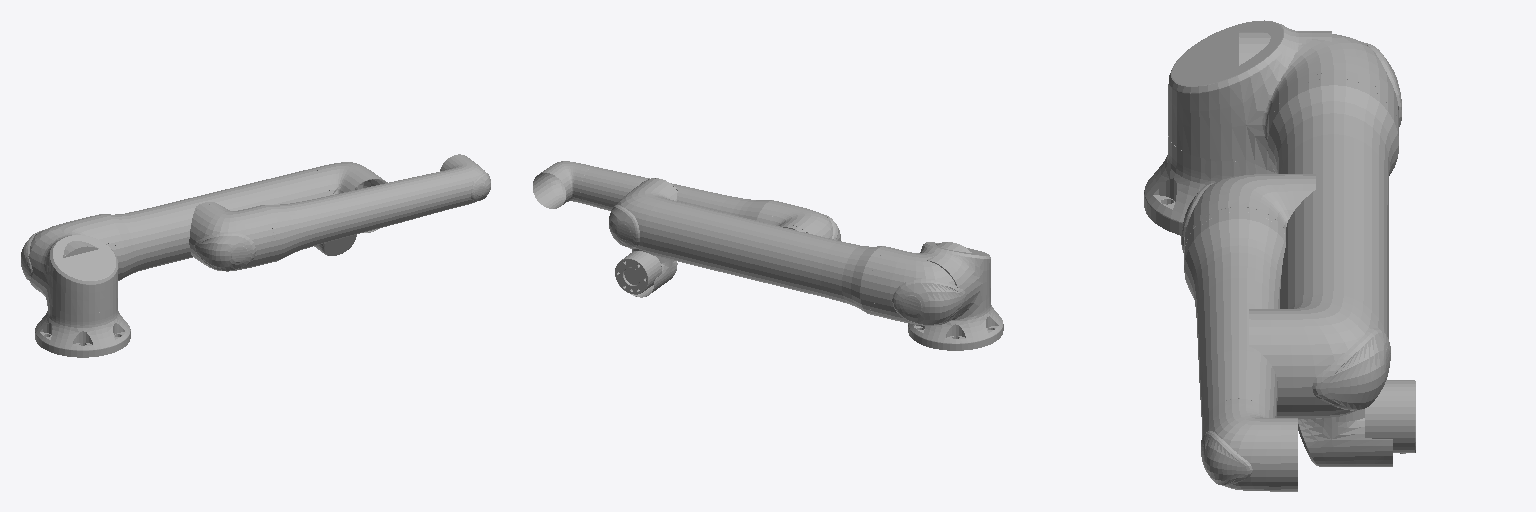
robot.urdf — ur5e_robot:
<?xml version="1.0" encoding="utf-8" ?>
<!-- =================================================================================== -->
<!-- |    This document was autogenerated by xacro from [local-path]/catkin_workspace/src/universal_robot/ur_description/urdf/ur5e.xacro | -->
<!-- |    EDITING THIS FILE BY HAND IS NOT RECOMMENDED                                 | -->
<!-- =================================================================================== -->
<robot name="ur5e_robot">
    <!--
    Base UR robot series xacro macro.

    NOTE: this is NOT a URDF. It cannot directly be loaded by consumers
    expecting a flattened '.urdf' file. See the top-level '.xacro' for that
    (but note: that .xacro must still be processed by the xacro command).

    For use in '.launch' files: use one of the 'load_urX.launch' convenience
    launch files.

    This file models the base kinematic chain of a UR robot, which then gets
    parameterised by various configuration files to convert it into a UR3(e),
    UR5(e), UR10(e) or UR16e.

    NOTE: the default kinematic parameters (ie: link lengths, frame locations,
    offets, etc) do not correspond to any particular robot. They are defaults
    only. There WILL be non-zero offsets between the Forward Kinematics results
    in TF (ie: robot_state_publisher) and the values reported by the Teach
    Pendant.

    For accurate (and robot-specific) transforms, the 'kinematics_parameters_file'
    parameter MUST point to a .yaml file containing the appropriate values for
    the targetted robot.

    If using the UniversalRobots/Universal_Robots_ROS_Driver, follow the steps
    described in the readme of that repository to extract the kinematic
    calibration from the controller and generate the required .yaml file.

    Main author of the migration to yaml configs: [author].

    Contributors to previous versions (in no particular order):

     - [author]
     - [author]
     - [author]
     - [author]
     - [author]
     - [author]
     - [author]
     - [author]
     - [author]
     - [author]
     - [author]
     - [author]
     - [author]
     - [author]
     - [author]
     - [author]
     - [author]
    
    Refactor by WHI for connecting to other link
     - [author]
  -->
    <!--
    NOTE: the macro defined in this file is NOT part of the public API of this
          package. Users CANNOT rely on this file being available, or stored in
          this location. Nor can they rely on the existence of the macro.
  -->
    <transmission name="shoulder_pan_trans">
        <type>transmission_interface/SimpleTransmission</type>
        <joint name="shoulder_pan_joint">
            <hardwareInterface>hardware_interface/PositionJointInterface</hardwareInterface>
        </joint>
        <actuator name="shoulder_pan_motor">
            <mechanicalReduction>1</mechanicalReduction>
            <hardwareInterface>hardware_interface/EffortJointInterface</hardwareInterface>
        </actuator>
    </transmission>
    <transmission name="shoulder_lift_trans">
        <type>transmission_interface/SimpleTransmission</type>
        <joint name="shoulder_lift_joint">
            <hardwareInterface>hardware_interface/PositionJointInterface</hardwareInterface>
        </joint>
        <actuator name="shoulder_lift_motor">
            <mechanicalReduction>1</mechanicalReduction>
            <hardwareInterface>hardware_interface/EffortJointInterface</hardwareInterface>
        </actuator>
    </transmission>
    <transmission name="elbow_trans">
        <type>transmission_interface/SimpleTransmission</type>
        <joint name="elbow_joint">
            <hardwareInterface>hardware_interface/PositionJointInterface</hardwareInterface>
        </joint>
        <actuator name="elbow_motor">
            <mechanicalReduction>1</mechanicalReduction>
            <hardwareInterface>hardware_interface/EffortJointInterface</hardwareInterface>
        </actuator>
    </transmission>
    <transmission name="wrist_1_trans">
        <type>transmission_interface/SimpleTransmission</type>
        <joint name="wrist_1_joint">
            <hardwareInterface>hardware_interface/PositionJointInterface</hardwareInterface>
        </joint>
        <actuator name="wrist_1_motor">
            <mechanicalReduction>1</mechanicalReduction>
            <hardwareInterface>hardware_interface/EffortJointInterface</hardwareInterface>
        </actuator>
    </transmission>
    <transmission name="wrist_2_trans">
        <type>transmission_interface/SimpleTransmission</type>
        <joint name="wrist_2_joint">
            <hardwareInterface>hardware_interface/PositionJointInterface</hardwareInterface>
        </joint>
        <actuator name="wrist_2_motor">
            <mechanicalReduction>1</mechanicalReduction>
            <hardwareInterface>hardware_interface/EffortJointInterface</hardwareInterface>
        </actuator>
    </transmission>
    <transmission name="wrist_3_trans">
        <type>transmission_interface/SimpleTransmission</type>
        <joint name="wrist_3_joint">
            <hardwareInterface>hardware_interface/PositionJointInterface</hardwareInterface>
        </joint>
        <actuator name="wrist_3_motor">
            <mechanicalReduction>1</mechanicalReduction>
            <hardwareInterface>hardware_interface/EffortJointInterface</hardwareInterface>
        </actuator>
    </transmission>
    <!-- links: main serial chain -->
    <link name="base_link" />
    <link name="base_link_inertia">
        <visual>
            <origin rpy="0 0 3.14159265359" xyz="0 0 0" />
            <geometry>
                <mesh filename="package://ur_description/meshes/ur5e/visual/base.dae" />
            </geometry>
            <material name="LightGrey">
                <color rgba="0.7 0.7 0.7 1.0" />
            </material>
        </visual>
        <collision>
            <origin rpy="0 0 3.14159265359" xyz="0 0 0" />
            <geometry>
                <mesh filename="package://ur_description/meshes/ur5e/collision/base.stl" />
            </geometry>
        </collision>
        <inertial>
            <mass value="4.0" />
            <origin rpy="0 0 0" xyz="0 0 0" />
            <inertia ixx="0.00443333156" ixy="0.0" ixz="0.0" iyy="0.00443333156" iyz="0.0" izz="0.0072" />
        </inertial>
    </link>
    <link name="shoulder_link">
        <visual>
            <origin rpy="0 0 3.14159265359" xyz="0 0 0" />
            <geometry>
                <mesh filename="package://ur_description/meshes/ur5e/visual/shoulder.dae" />
            </geometry>
            <material name="LightGrey">
                <color rgba="0.7 0.7 0.7 1.0" />
            </material>
        </visual>
        <collision>
            <origin rpy="0 0 3.14159265359" xyz="0 0 0" />
            <geometry>
                <mesh filename="package://ur_description/meshes/ur5e/collision/shoulder.stl" />
            </geometry>
        </collision>
        <inertial>
            <mass value="3.7" />
            <origin rpy="0 0 0" xyz="0 0 0" />
            <inertia ixx="0.010267495893" ixy="0.0" ixz="0.0" iyy="0.010267495893" iyz="0.0" izz="0.00666" />
        </inertial>
    </link>
    <link name="upper_arm_link">
        <visual>
            <origin rpy="1.57079632679 0 -1.57079632679" xyz="0 0 0.138" />
            <geometry>
                <mesh filename="package://ur_description/meshes/ur5e/visual/upperarm.dae" />
            </geometry>
            <material name="LightGrey">
                <color rgba="0.7 0.7 0.7 1.0" />
            </material>
        </visual>
        <collision>
            <origin rpy="1.57079632679 0 -1.57079632679" xyz="0 0 0.138" />
            <geometry>
                <mesh filename="package://ur_description/meshes/ur5e/collision/upperarm.stl" />
            </geometry>
        </collision>
        <inertial>
            <mass value="8.393" />
            <origin rpy="0 1.57079632679 0" xyz="-0.2125 0.0 0.138" />
            <inertia ixx="0.133885781862" ixy="0.0" ixz="0.0" iyy="0.133885781862" iyz="0.0" izz="0.0151074" />
        </inertial>
    </link>
    <link name="forearm_link">
        <visual>
            <origin rpy="1.57079632679 0 -1.57079632679" xyz="0 0 0.007" />
            <geometry>
                <mesh filename="package://ur_description/meshes/ur5e/visual/forearm.dae" />
            </geometry>
            <material name="LightGrey">
                <color rgba="0.7 0.7 0.7 1.0" />
            </material>
        </visual>
        <collision>
            <origin rpy="1.57079632679 0 -1.57079632679" xyz="0 0 0.007" />
            <geometry>
                <mesh filename="package://ur_description/meshes/ur5e/collision/forearm.stl" />
            </geometry>
        </collision>
        <inertial>
            <mass value="2.275" />
            <origin rpy="0 1.57079632679 0" xyz="-0.1961 0.0 0.007" />
            <inertia ixx="0.0312093550996" ixy="0.0" ixz="0.0" iyy="0.0312093550996" iyz="0.0" izz="0.004095" />
        </inertial>
    </link>
    <link name="wrist_1_link">
        <visual>
            <!-- TODO: Move this to a parameter -->
            <origin rpy="1.57079632679 0 0" xyz="0 0 -0.127" />
            <geometry>
                <mesh filename="package://ur_description/meshes/ur5e/visual/wrist1.dae" />
            </geometry>
            <material name="LightGrey">
                <color rgba="0.7 0.7 0.7 1.0" />
            </material>
        </visual>
        <collision>
            <origin rpy="1.57079632679 0 0" xyz="0 0 -0.127" />
            <geometry>
                <mesh filename="package://ur_description/meshes/ur5e/collision/wrist1.stl" />
            </geometry>
        </collision>
        <inertial>
            <mass value="1.219" />
            <origin rpy="0 0 0" xyz="0 0 0" />
            <inertia ixx="0.00255989897604" ixy="0.0" ixz="0.0" iyy="0.00255989897604" iyz="0.0" izz="0.0021942" />
        </inertial>
    </link>
    <link name="wrist_2_link">
        <visual>
            <origin rpy="0 0 0" xyz="0 0 -0.0997" />
            <geometry>
                <mesh filename="package://ur_description/meshes/ur5e/visual/wrist2.dae" />
            </geometry>
            <material name="LightGrey">
                <color rgba="0.7 0.7 0.7 1.0" />
            </material>
        </visual>
        <collision>
            <origin rpy="0 0 0" xyz="0 0 -0.0997" />
            <geometry>
                <mesh filename="package://ur_description/meshes/ur5e/collision/wrist2.stl" />
            </geometry>
        </collision>
        <inertial>
            <mass value="1.219" />
            <origin rpy="0 0 0" xyz="0 0 0" />
            <inertia ixx="0.00255989897604" ixy="0.0" ixz="0.0" iyy="0.00255989897604" iyz="0.0" izz="0.0021942" />
        </inertial>
    </link>
    <link name="wrist_3_link">
        <visual>
            <origin rpy="1.57079632679 0 0" xyz="0 0 -0.0989" />
            <geometry>
                <mesh filename="package://ur_description/meshes/ur5e/visual/wrist3.dae" />
            </geometry>
            <material name="LightGrey">
                <color rgba="0.7 0.7 0.7 1.0" />
            </material>
        </visual>
        <collision>
            <origin rpy="1.57079632679 0 0" xyz="0 0 -0.0989" />
            <geometry>
                <mesh filename="package://ur_description/meshes/ur5e/collision/wrist3.stl" />
            </geometry>
        </collision>
        <inertial>
            <mass value="0.1879" />
            <origin rpy="0 0 0" xyz="0.0 0.0 -0.0229" />
            <inertia ixx="9.89041005217e-05" ixy="0.0" ixz="0.0" iyy="9.89041005217e-05" iyz="0.0" izz="0.0001321171875" />
        </inertial>
    </link>
    <!-- joints: main serial chain -->
    <joint name="base_link-base_link_inertia" type="fixed">
        <parent link="base_link" />
        <child link="base_link_inertia" />
        <!-- 'base_link' is REP-103 aligned (so X+ forward), while the internal
           frames of the robot/controller have X+ pointing backwards.
           Use the joint between 'base_link' and 'base_link_inertia' (a dummy
           link/frame) to introduce the necessary rotation over Z (of pi rad).
      -->
        <origin rpy="0 0 3.14159265359" xyz="0 0 0" />
    </joint>
    <joint name="shoulder_pan_joint" type="revolute">
        <parent link="base_link_inertia" />
        <child link="shoulder_link" />
        <origin rpy="0 0 0" xyz="0 0 0.1625" />
        <axis xyz="0 0 1" />
        <limit effort="150.0" lower="-6.28318530718" upper="6.28318530718" velocity="3.14159265359" />
        <dynamics damping="0" friction="0" />
    </joint>
    <joint name="shoulder_lift_joint" type="revolute">
        <parent link="shoulder_link" />
        <child link="upper_arm_link" />
        <origin rpy="1.570796327 0 0" xyz="0 0 0" />
        <axis xyz="0 0 1" />
        <limit effort="150.0" lower="-6.28318530718" upper="6.28318530718" velocity="3.14159265359" />
        <dynamics damping="0" friction="0" />
    </joint>
    <joint name="elbow_joint" type="revolute">
        <parent link="upper_arm_link" />
        <child link="forearm_link" />
        <origin rpy="0 0 0" xyz="-0.425 0 0" />
        <axis xyz="0 0 1" />
        <limit effort="150.0" lower="-3.14159265359" upper="3.14159265359" velocity="3.14159265359" />
        <dynamics damping="0" friction="0" />
    </joint>
    <joint name="wrist_1_joint" type="revolute">
        <parent link="forearm_link" />
        <child link="wrist_1_link" />
        <origin rpy="0 0 0" xyz="-0.3922 0 0.1333" />
        <axis xyz="0 0 1" />
        <limit effort="28.0" lower="-6.28318530718" upper="6.28318530718" velocity="3.14159265359" />
        <dynamics damping="0" friction="0" />
    </joint>
    <joint name="wrist_2_joint" type="revolute">
        <parent link="wrist_1_link" />
        <child link="wrist_2_link" />
        <origin rpy="1.570796327 0 0" xyz="0 -0.0997 -2.0448811823e-11" />
        <axis xyz="0 0 1" />
        <limit effort="28.0" lower="-6.28318530718" upper="6.28318530718" velocity="3.14159265359" />
        <dynamics damping="0" friction="0" />
    </joint>
    <joint name="wrist_3_joint" type="revolute">
        <parent link="wrist_2_link" />
        <child link="wrist_3_link" />
        <origin rpy="1.57079632659 3.14159265359 3.14159265359" xyz="0 0.0996 -2.04283014801e-11" />
        <axis xyz="0 0 1" />
        <limit effort="28.0" lower="-6.28318530718" upper="6.28318530718" velocity="3.14159265359" />
        <dynamics damping="0" friction="0" />
    </joint>
    <!-- ROS-Industrial 'base' frame: base_link to UR 'Base' Coordinates transform -->
    <link name="base" />
    <joint name="base_link-base_fixed_joint" type="fixed">
        <!-- Note the rotation over Z of pi radians: as base_link is REP-103
           aligned (ie: has X+ forward, Y+ left and Z+ up), this is needed
           to correctly align 'base' with the 'Base' coordinate system of
           the UR controller.
      -->
        <origin rpy="0 0 3.14159265359" xyz="0 0 0" />
        <parent link="base_link" />
        <child link="base" />
    </joint>
    <!-- ROS-Industrial 'flange' frame: attachment point for EEF models -->
    <link name="flange" />
    <joint name="wrist_3-flange" type="fixed">
        <parent link="wrist_3_link" />
        <child link="flange" />
        <origin rpy="0 -1.57079632679 -1.57079632679" xyz="0 0 0" />
    </joint>
    <!-- ROS-Industrial 'tool0' frame: all-zeros tool frame -->
    <link name="tool0" />
    <joint name="flange-tool0" type="fixed">
        <!-- default toolframe: X+ left, Y+ up, Z+ front -->
        <origin rpy="1.57079632679 0 1.57079632679" xyz="0 0 0" />
        <parent link="flange" />
        <child link="tool0" />
    </joint>
    <gazebo>
        <plugin name="gazebo_ros_control">
            <robotNamespace>/</robotNamespace>
        </plugin>
    </gazebo>
</robot>

--- What the picture shows (computed from the rendered views, not written in the file) ---
The picture shows the robot from 3 angles, left to right: view 1: azimuth 30°, elevation 25°; view 2: azimuth 150°, elevation 25°; view 3: azimuth 270°, elevation 25°; orthographic projection.
Robot: ur5e_robot — 11 links, 10 joints (6 revolute, 4 fixed); root link base_link; default pose: all joints at 0.
Visible links, largest first — view 1: forearm_link, upper_arm_link, shoulder_link, base_link_inertia; view 2: upper_arm_link, forearm_link, shoulder_link, base_link_inertia, wrist_3_link; view 3: upper_arm_link, forearm_link, shoulder_link, base_link_inertia, wrist_2_link, wrist_3_link.
Boxes of the visible links, box(x1,y1,x2,y2) form: forearm_link: box(189, 154, 490, 271); upper_arm_link: box(21, 162, 387, 280); shoulder_link: box(28, 229, 117, 321); base_link_inertia: box(35, 302, 130, 357); upper_arm_link: box(609, 178, 974, 325); forearm_link: box(533, 161, 840, 240); shoulder_link: box(920, 242, 990, 324); base_link_inertia: box(908, 294, 1003, 350); wrist_3_link: box(615, 251, 661, 294); upper_arm_link: box(1239, 31, 1401, 418); forearm_link: box(1181, 174, 1315, 491); shoulder_link: box(1168, 20, 1331, 178); base_link_inertia: box(1144, 136, 1240, 235); wrist_2_link: box(1298, 417, 1392, 466); wrist_3_link: box(1365, 380, 1415, 453).
Bounding box of the posed robot: 1.33 × 0.3708 × 0.2669 m (x, y, z).
Meshes: 7 distinct files referenced, 7 mesh visuals loaded (7 Collada DAE).
